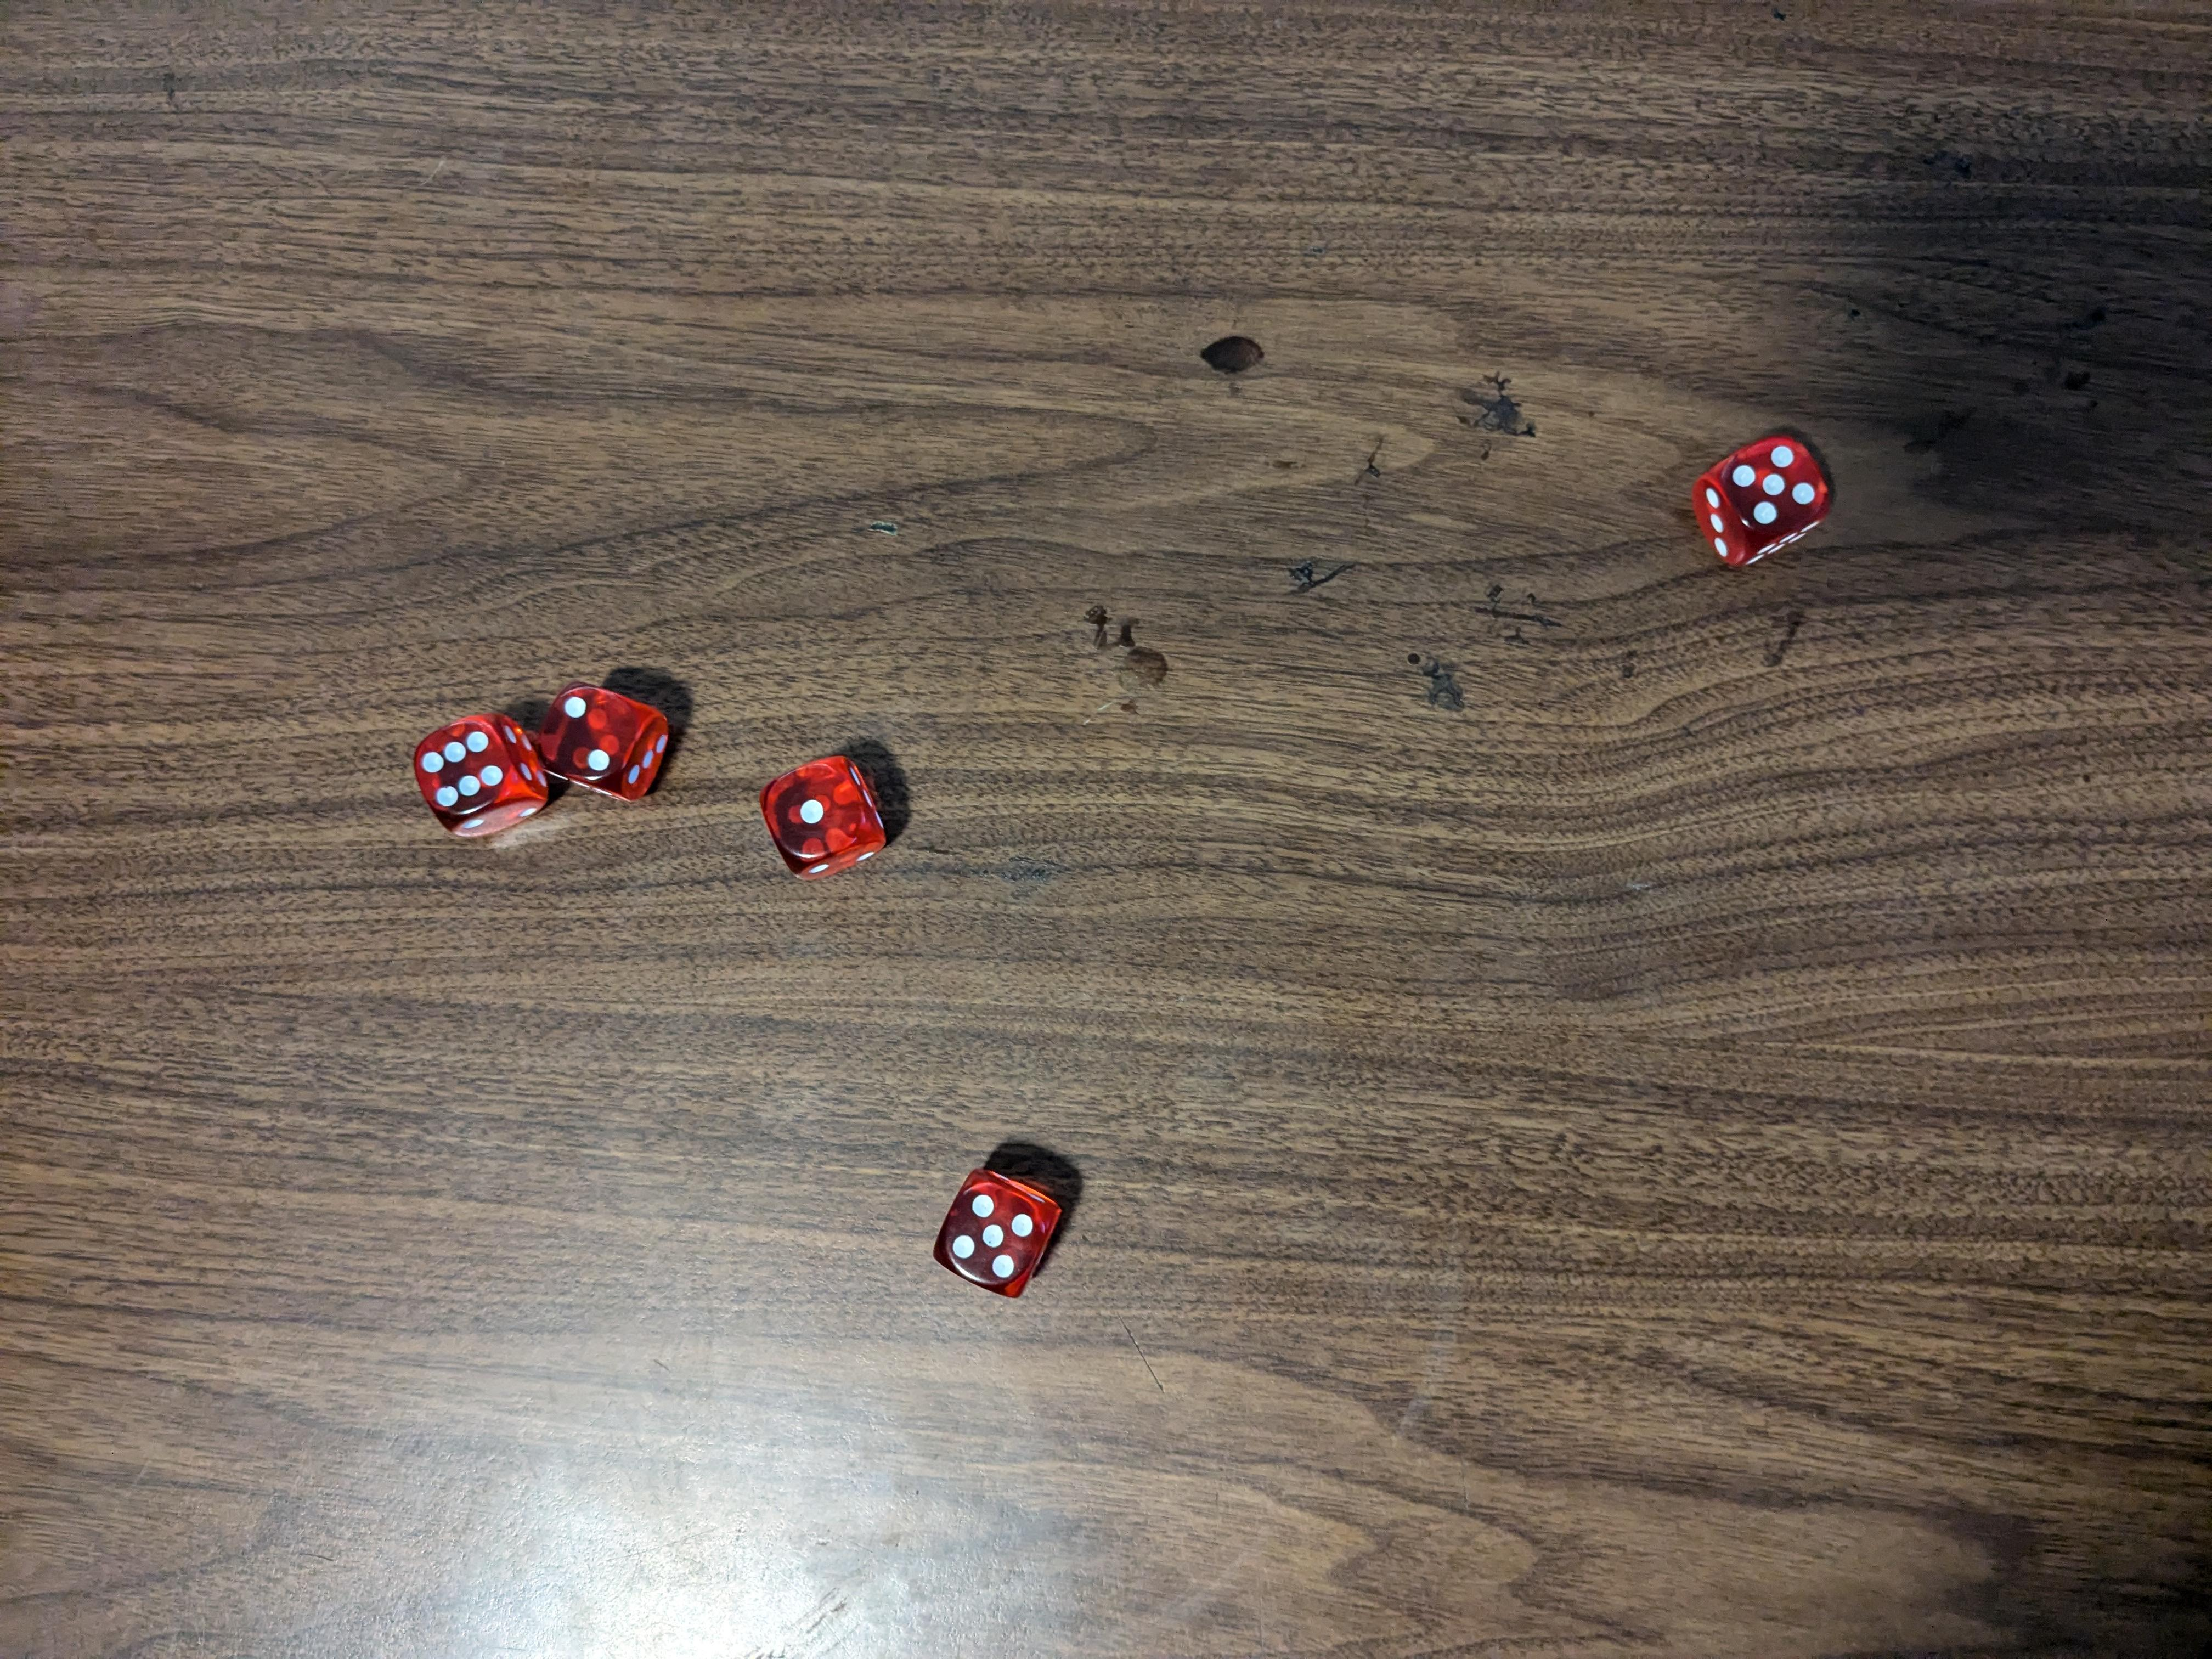five: (1691, 429, 1838, 568), (932, 1161, 1068, 1298)
one: (751, 756, 900, 887)
six: (401, 708, 542, 843)
two: (542, 685, 685, 800)
